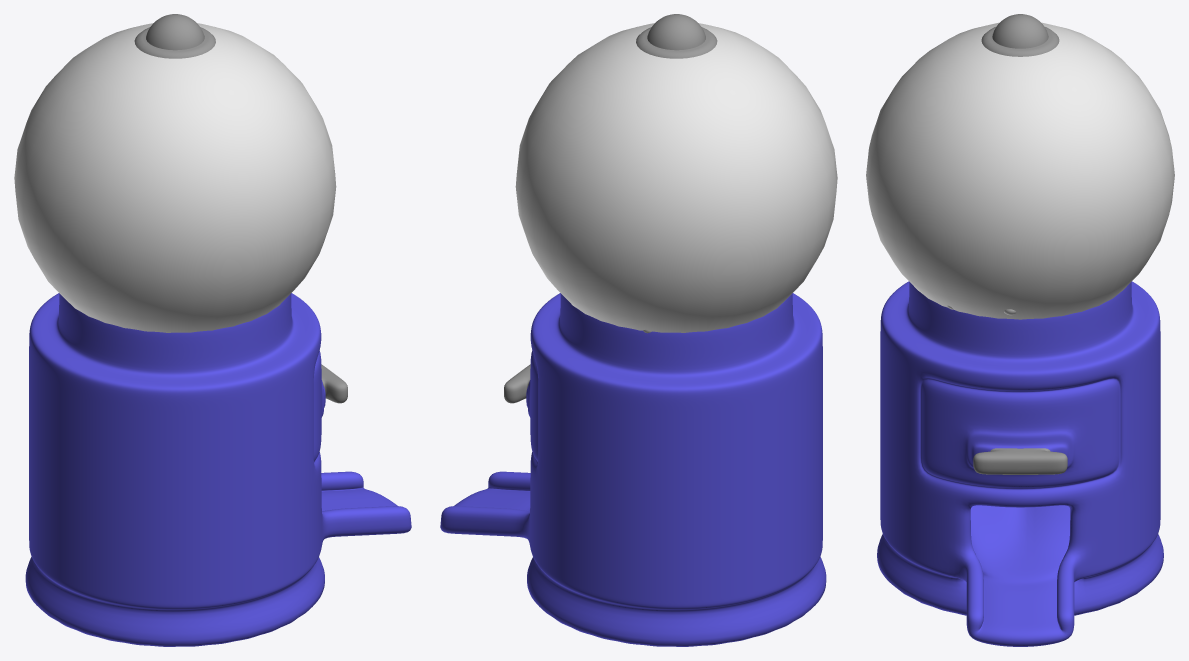
Rendered from CandyMachine.fbx.
The picture shows the model from 3 angles, left to right: view 1: azimuth 30°, elevation 25°; view 2: azimuth 150°, elevation 25°; view 3: azimuth 270°, elevation 25°; orthographic projection. The views are drawn at different scales.
Visible parts, largest first — view 1: Cylinder, Sphere, Sphere.001; view 2: Cylinder, Sphere, Sphere.001; view 3: Cylinder, Sphere, Sphere.001.
Boxes of the visible parts, x1,y1,x2,y2 form: Cylinder: (25,293,411,646); Sphere: (14,23,336,332); Sphere.001: (134,14,215,58); Cylinder: (440,293,826,646); Sphere: (515,23,837,332); Sphere.001: (636,14,717,58); Cylinder: (877,281,1163,646); Sphere: (866,22,1174,319); Sphere.001: (981,14,1059,56).
Bounding box in the file's own units: 0.2832 × 0.4323 × 0.2193.
